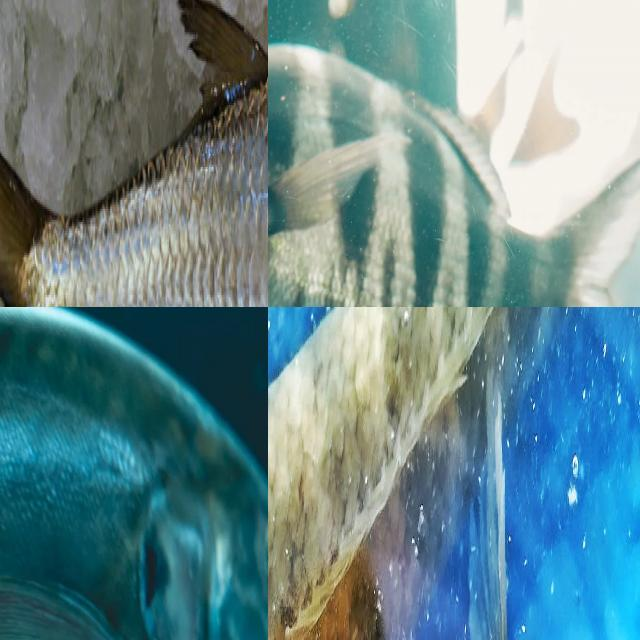fish: (0, 0, 268, 307), (268, 215, 577, 307), (95, 558, 205, 640)
